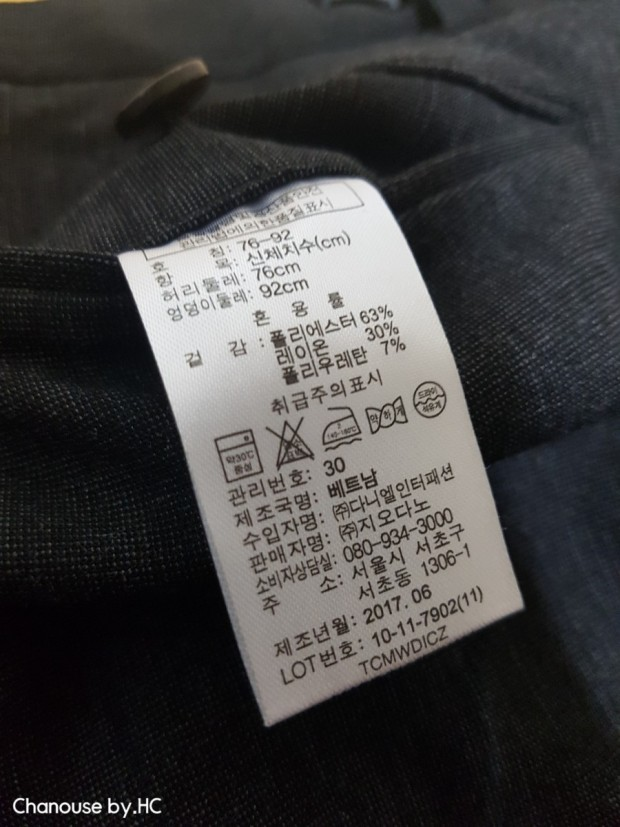KR_dry_clean_petroleum: (412, 380, 449, 419)
KR_gentle_wring: (363, 396, 411, 434)
KR_iron_medium_temp_with_cloth: (317, 406, 364, 453)
KR_no_chlorine_bleach: (264, 420, 316, 468)
KR_wash_warm_30_neutral: (212, 431, 264, 480)
